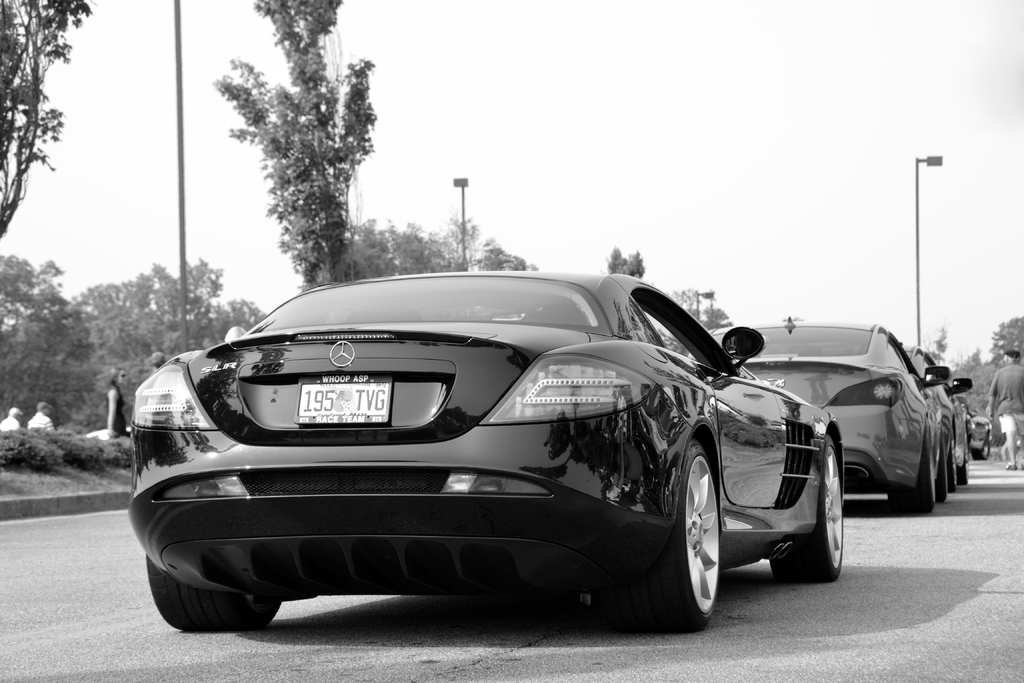Car: (127, 270, 992, 631)
